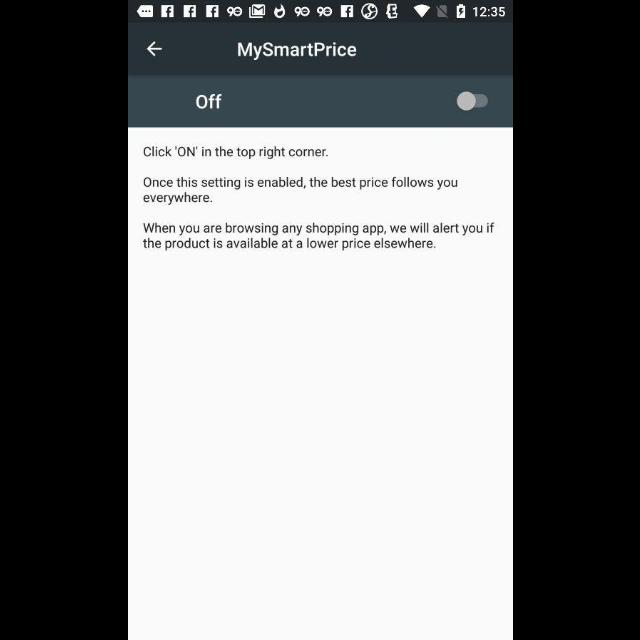icon: (146, 41, 162, 58)
switch: (456, 91, 488, 112)
text: (142, 222, 494, 252), (142, 177, 458, 206), (142, 146, 328, 160), (236, 42, 356, 62), (194, 94, 222, 110)
toolbar: (128, 24, 512, 76)
uppertaskbar: (128, 1, 512, 23)
